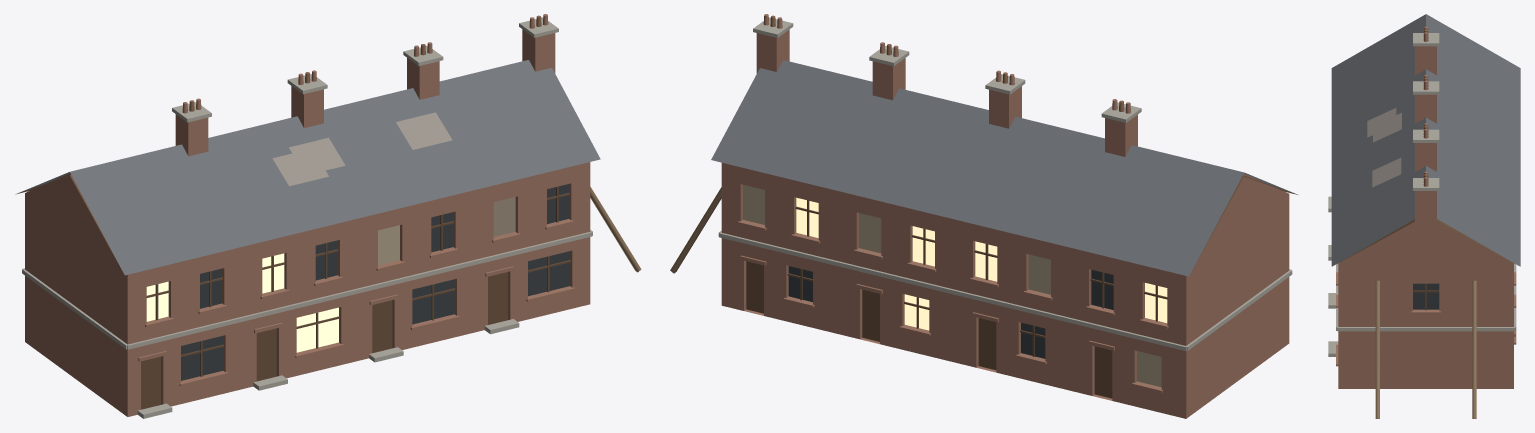
Rendered from prole_terrace.glb.
3 renders of one model, left to right at view 1: azimuth 30°, elevation 25°; view 2: azimuth 150°, elevation 25°; view 3: azimuth 270°, elevation 25°, orthographic. The views are drawn at different scales.
Visible parts, largest first — view 1: prole_terrace; view 2: prole_terrace; view 3: prole_terrace.
Part boxes in pixels (box(x1,y1,x2,y2)): prole_terrace: box(15, 14, 641, 418); prole_terrace: box(670, 14, 1297, 418); prole_terrace: box(1328, 14, 1520, 418).
Size of the model in its own units: 24.39 by 10.8 by 8.75.
